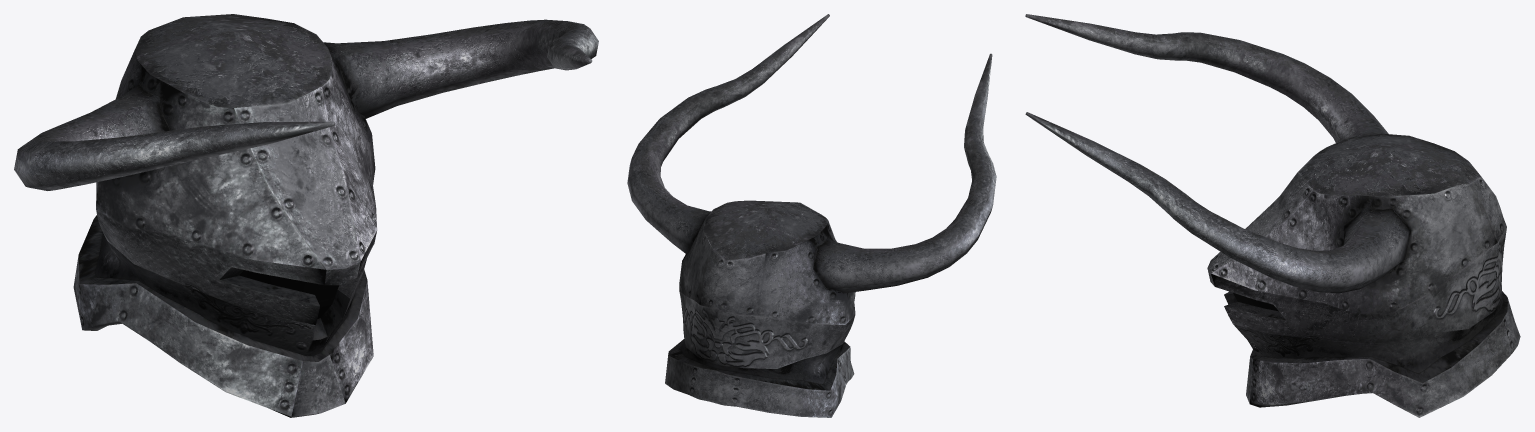
Rendered from enemy.fbx.
3 views of the same model, side by side, from view 1: azimuth 30°, elevation 25°; view 2: azimuth 150°, elevation 25°; view 3: azimuth 270°, elevation 25° (orthographic). The views are drawn at different scales.
Visible parts, largest first — view 1: ヘルム, ホーン, 首周り; view 2: ヘルム, ホーン, 首周り; view 3: ヘルム, ホーン, 首周り.
Part boxes in pixels (left/top/right/bottom): ヘルム: left=95, top=14, right=377, bottom=355; ホーン: left=14, top=19, right=598, bottom=190; 首周り: left=73, top=215, right=373, bottom=417; ヘルム: left=679, top=200, right=855, bottom=383; ホーン: left=627, top=14, right=996, bottom=293; 首周り: left=665, top=339, right=854, bottom=417; ヘルム: left=1207, top=133, right=1506, bottom=373; ホーン: left=1025, top=14, right=1411, bottom=293; 首周り: left=1246, top=291, right=1520, bottom=417.
Bounding box in the file's own units: 337 × 257 × 342.
1 material, 1 textured.
